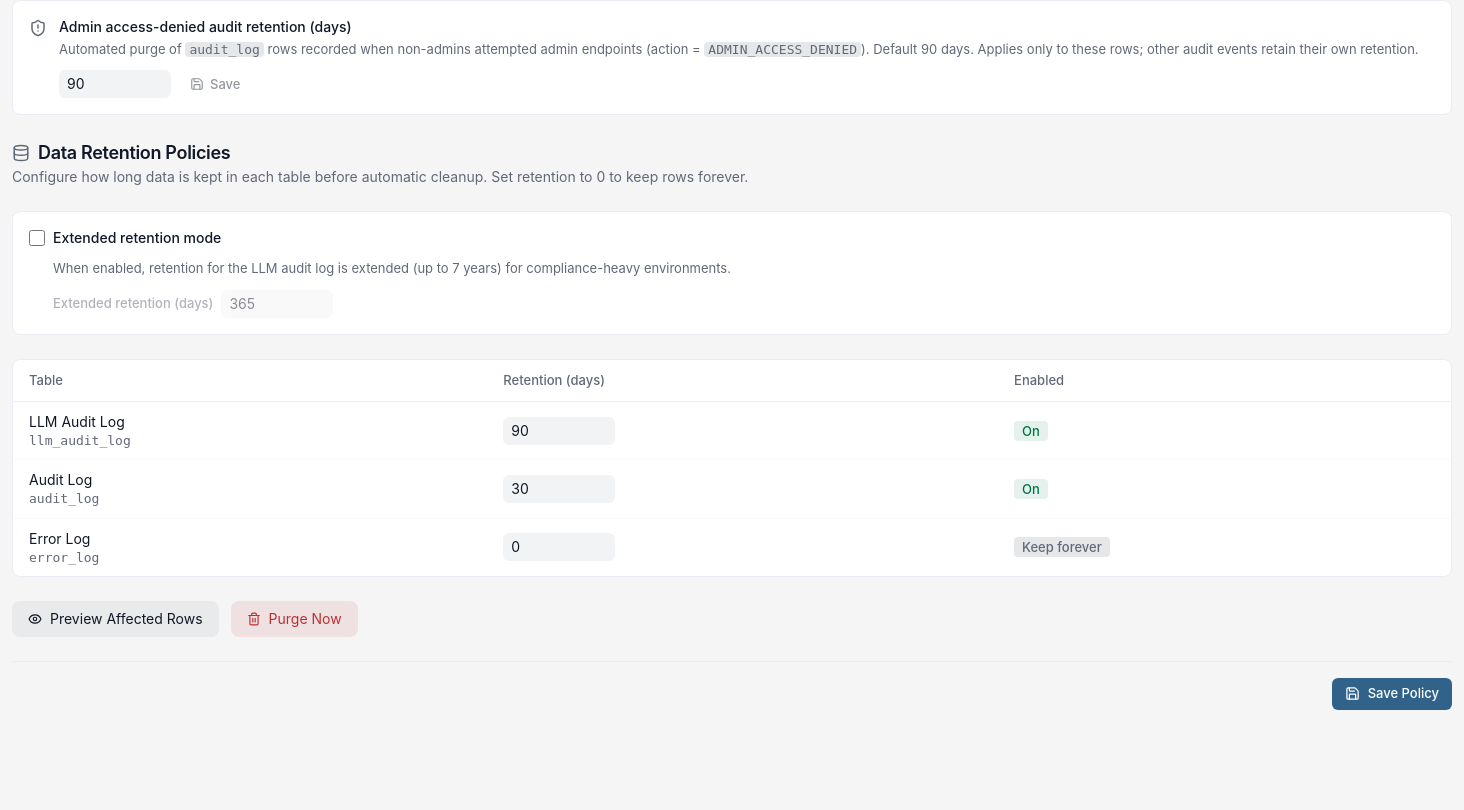
DataRetentionTab › AdminAccessDeniedRetentionSection (#264) › save button is disabled until the value diverges from the server state
Expected: the button with test id "admin-denied-retention-save-btn" is disabled, [179, 70, 251, 98]
Replace the text in the number field with test id "admin-denied-retention-input" with "120". click: (115, 84)
box: [59, 70, 171, 98]
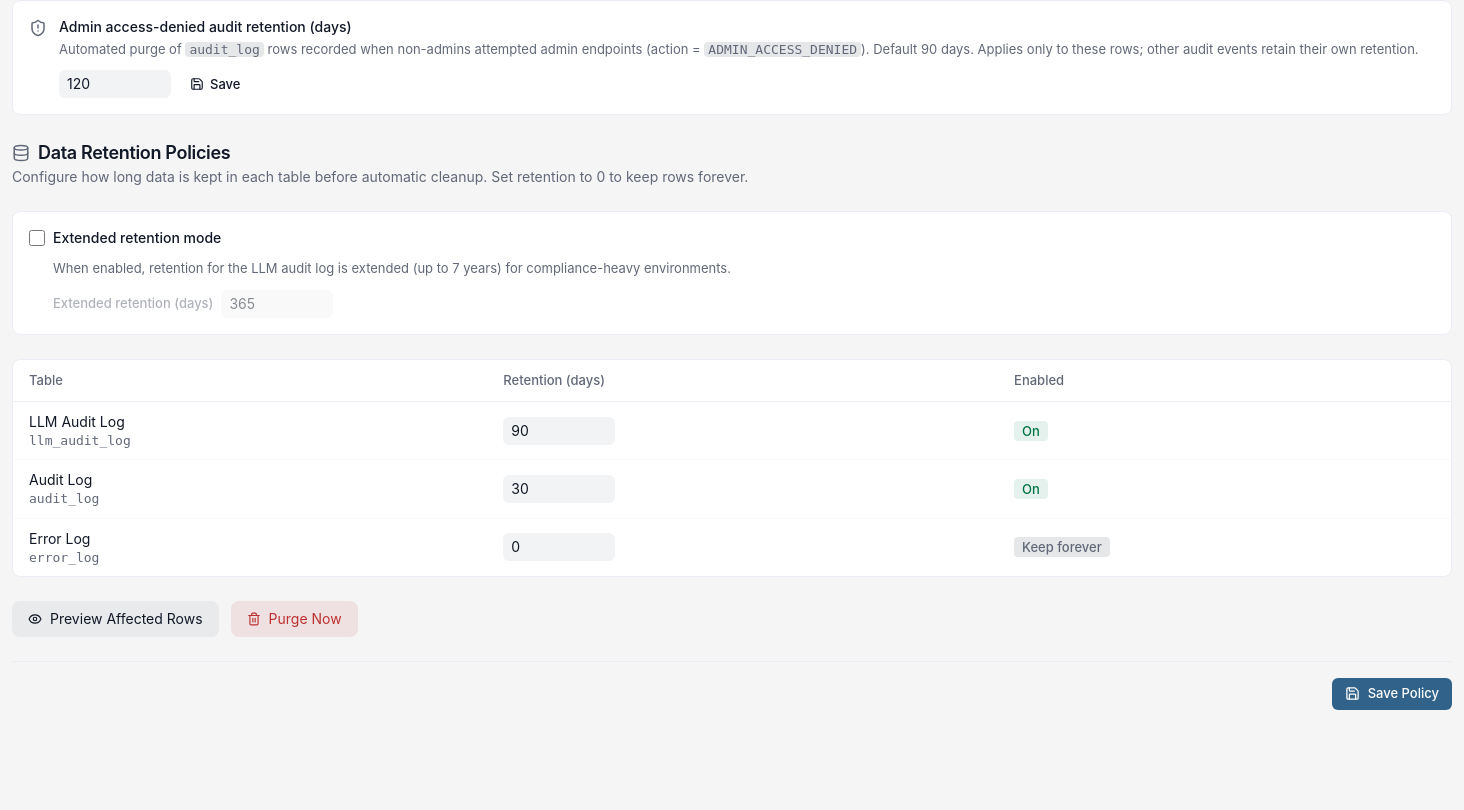
Expected: the button with test id "admin-denied-retention-save-btn" is enabled, [179, 70, 251, 98]
